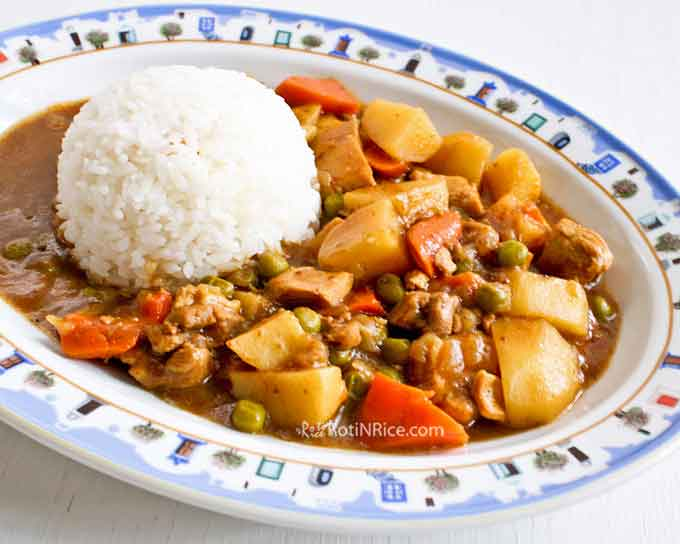curry: (345, 110, 588, 425), (79, 296, 339, 450)
rice: (58, 58, 320, 279)
